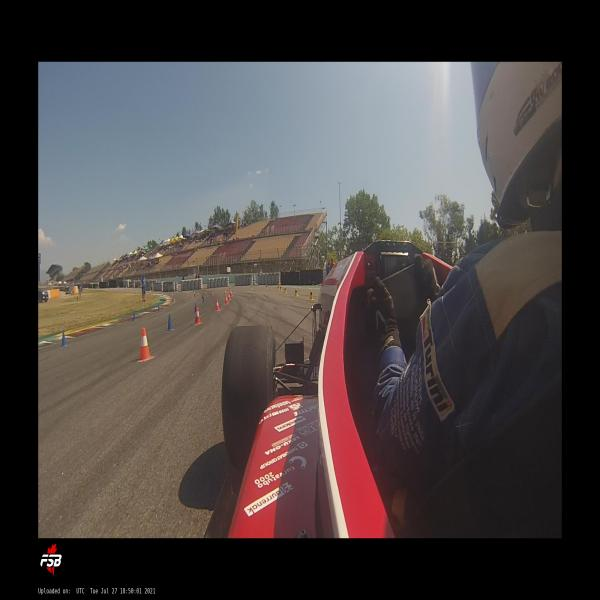orange_cone: (137, 328, 154, 361), (194, 307, 202, 325), (215, 299, 219, 311), (225, 295, 228, 304), (228, 294, 230, 300), (230, 291, 232, 296), (224, 290, 226, 295)
unknown_cone: (168, 314, 172, 331), (62, 330, 66, 346), (133, 311, 136, 321), (194, 303, 197, 313), (202, 296, 205, 303), (158, 304, 160, 311), (201, 294, 203, 299)
yellow_cone: (309, 290, 314, 300), (294, 288, 298, 297), (284, 288, 287, 294), (266, 284, 267, 290), (280, 286, 281, 291), (251, 284, 252, 289), (278, 286, 279, 290)
